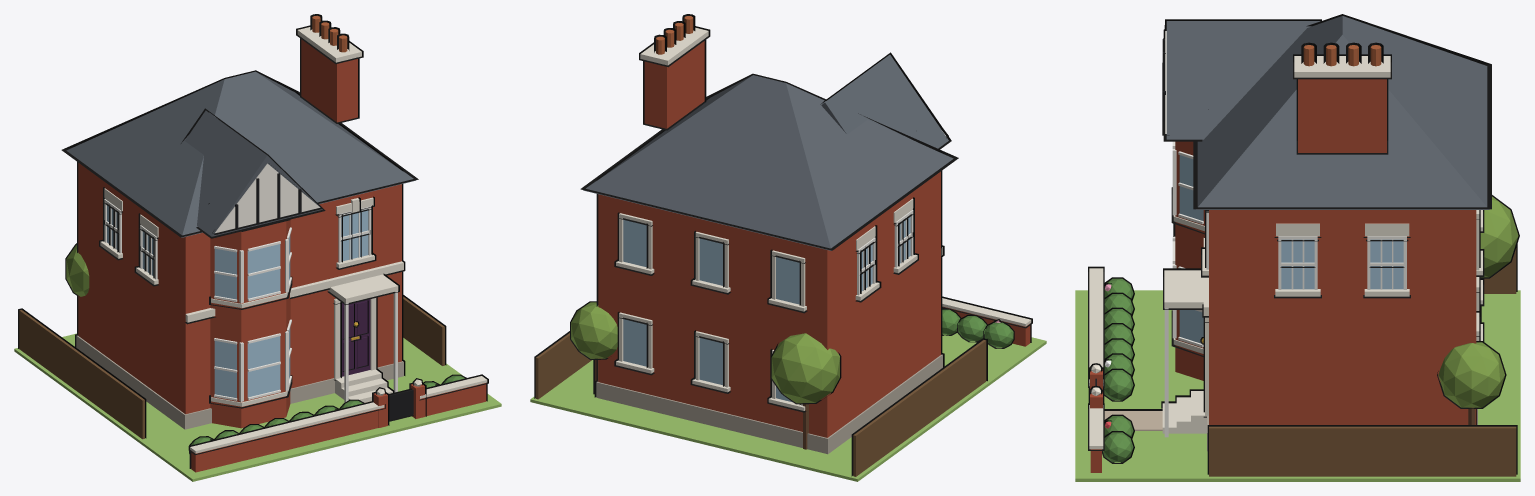
Rendered from MustakilEv_londra_edwardian_7.fbx.
The picture shows the model from 3 angles, left to right: view 1: azimuth 30°, elevation 25°; view 2: azimuth 150°, elevation 25°; view 3: azimuth 270°, elevation 25°; orthographic projection. The views are drawn at different scales.
Visible parts, largest first — view 1: MustakilEv_londra_edwardian_7; view 2: MustakilEv_londra_edwardian_7; view 3: MustakilEv_londra_edwardian_7.
Boxes of the visible parts, x1,y1,x2,y2 form: MustakilEv_londra_edwardian_7: (14, 14, 501, 481); MustakilEv_londra_edwardian_7: (530, 14, 1046, 481); MustakilEv_londra_edwardian_7: (1075, 14, 1520, 481).
Size of the model in its own units: 10 by 9.82 by 10.
